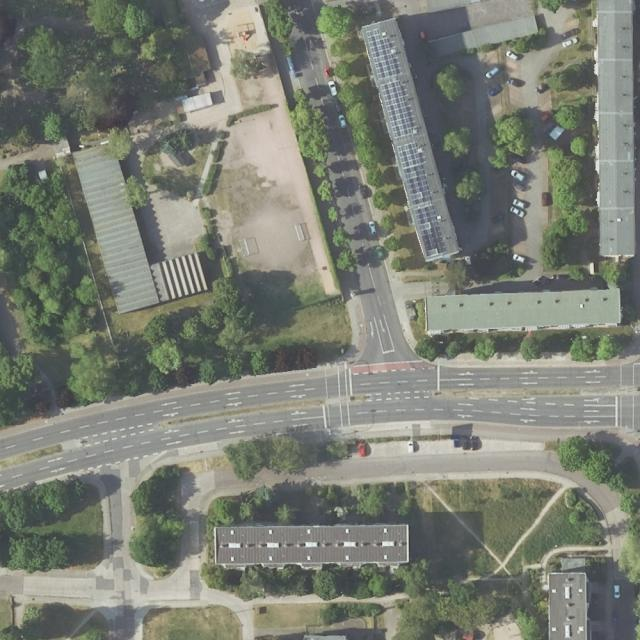PV: (397, 141, 447, 255), (380, 78, 419, 140), (367, 27, 403, 79)
